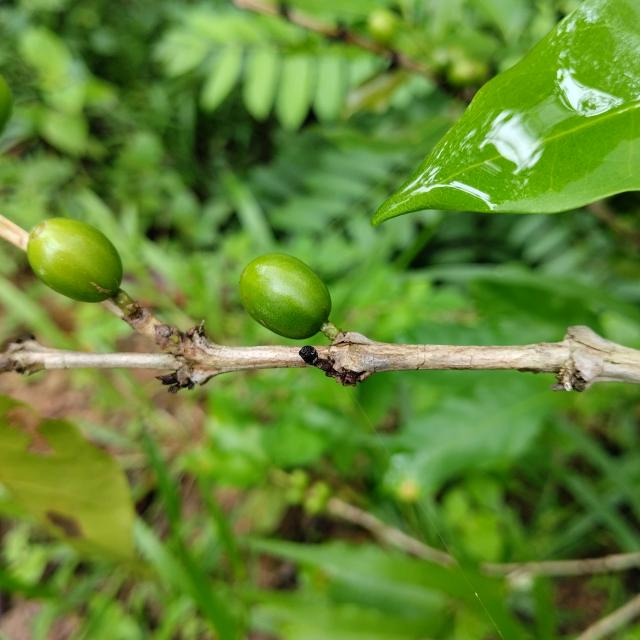green: (26, 218, 122, 302), (239, 254, 332, 339)
